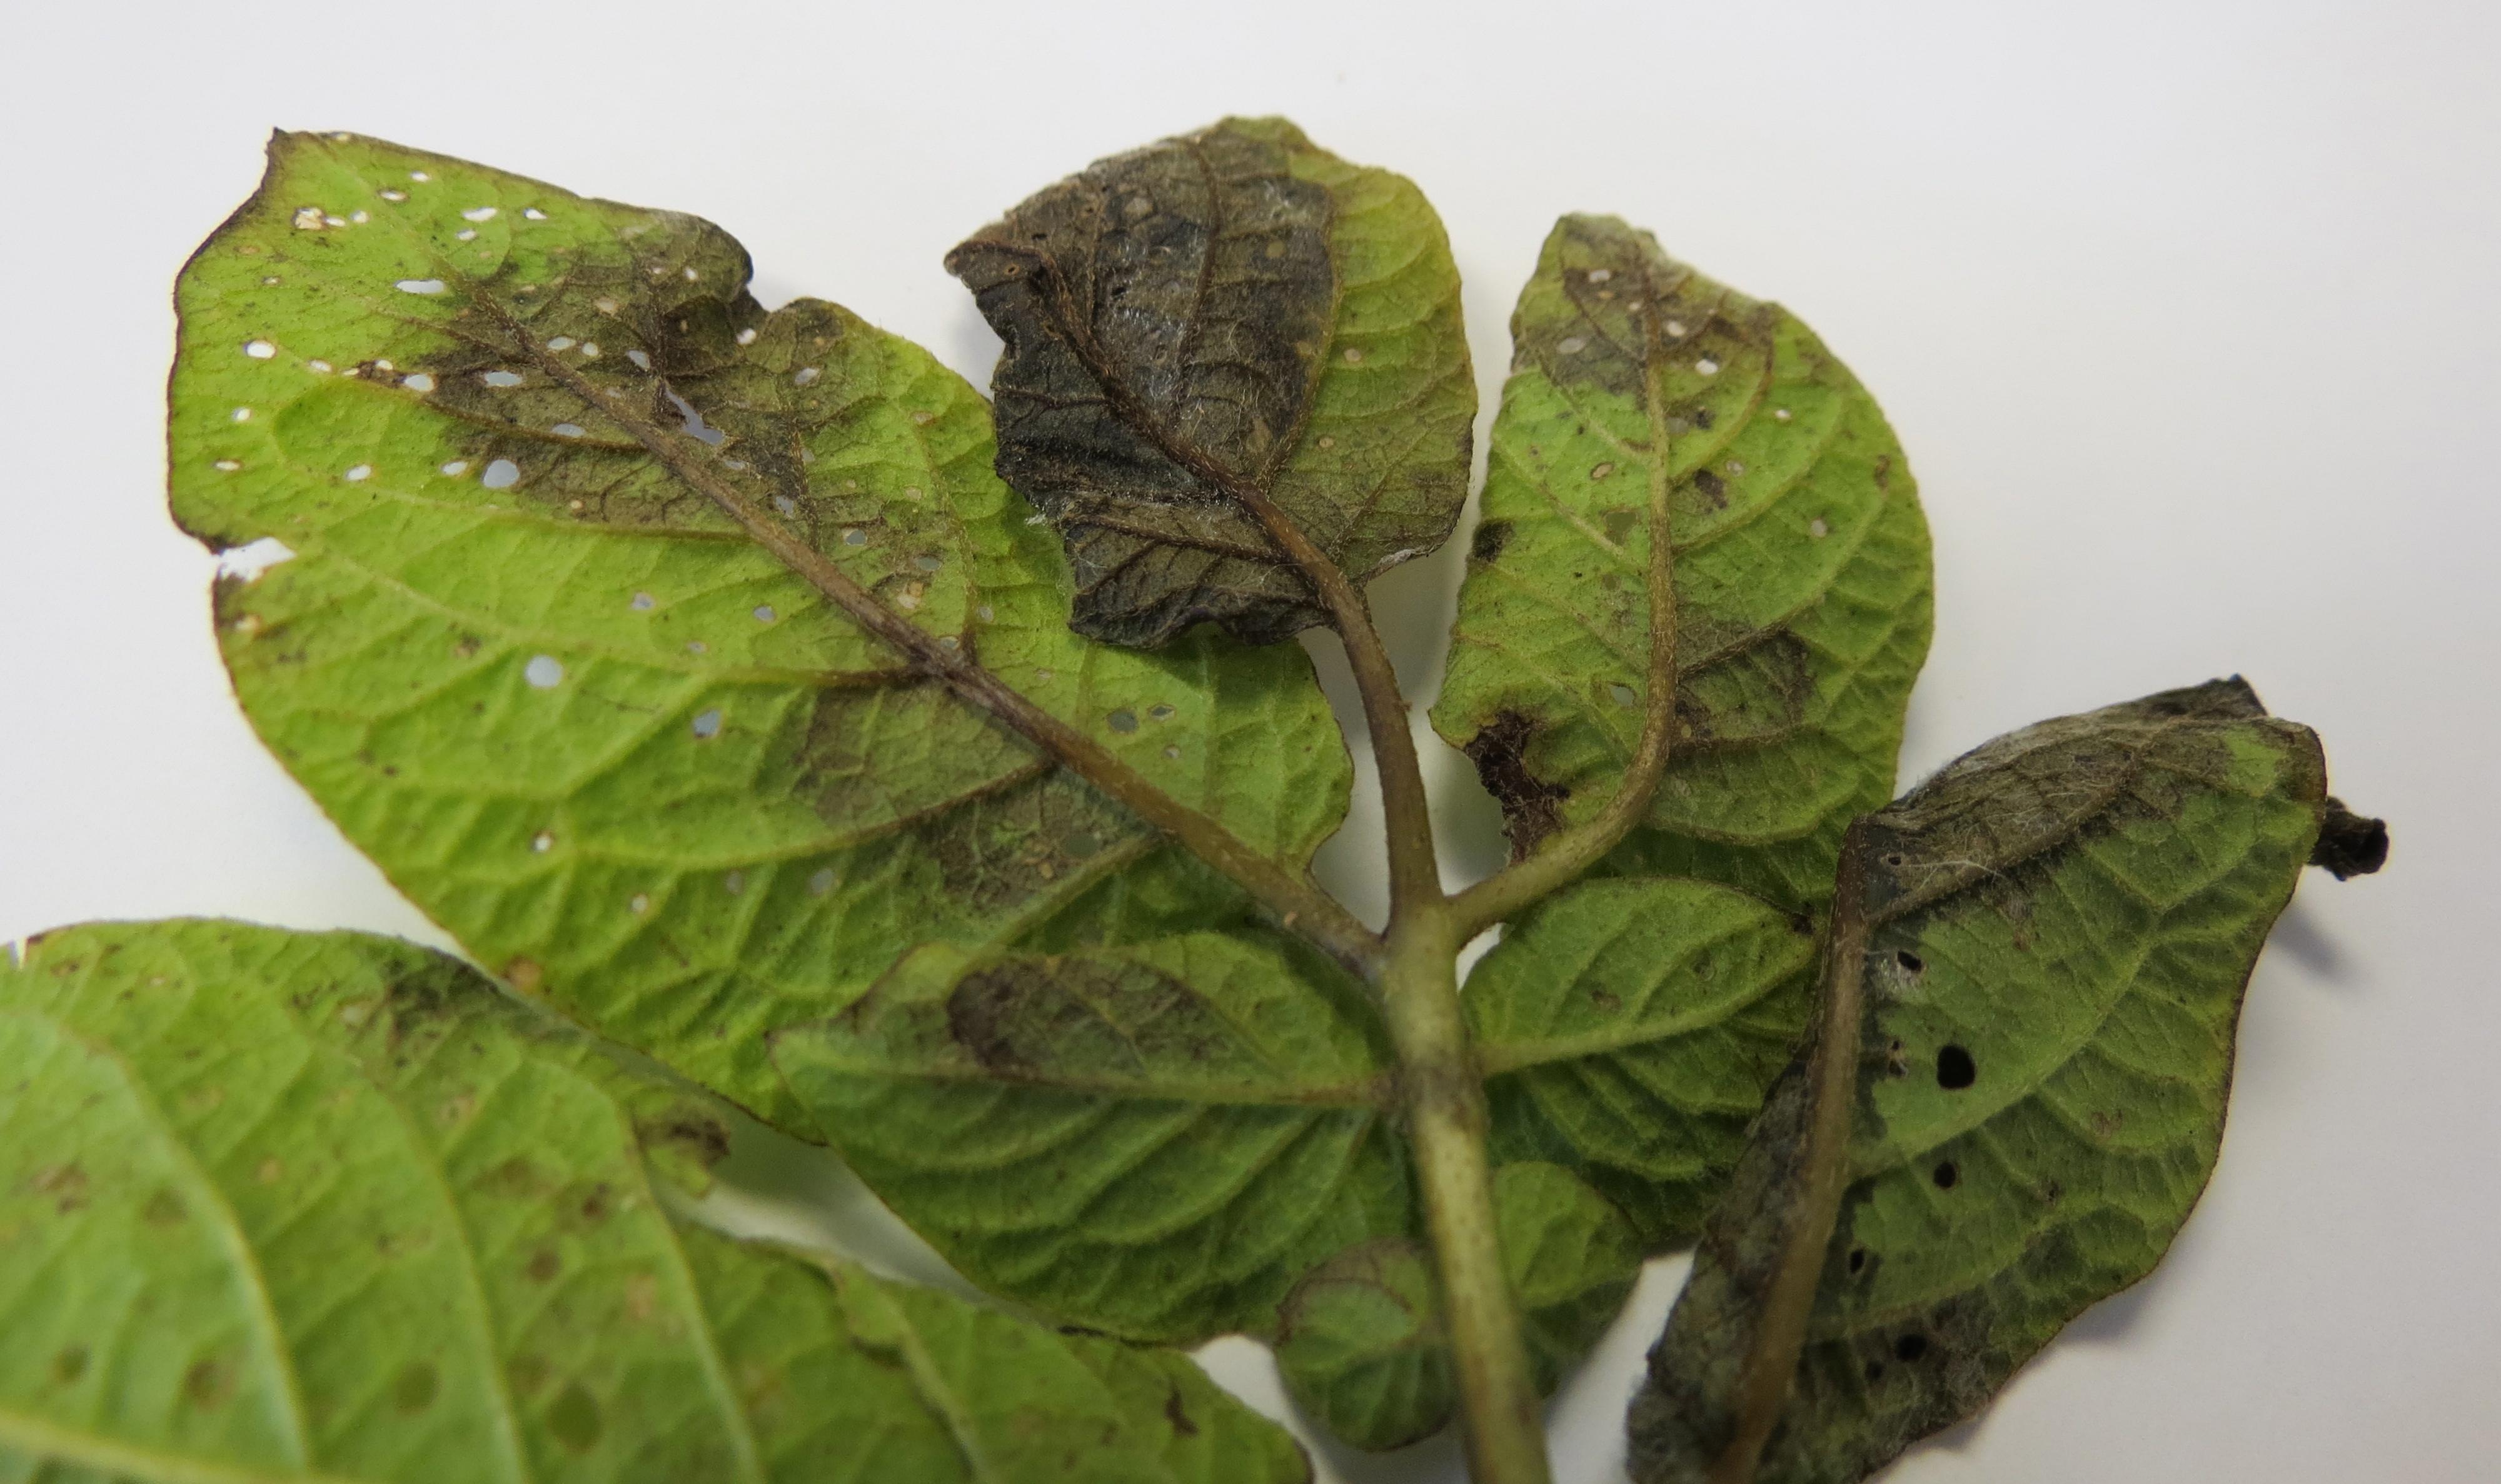Potato leaf late blight: (152, 106, 1475, 1385), (7, 892, 1399, 1484), (1655, 675, 2409, 1484), (1418, 193, 1936, 931), (956, 104, 1489, 673)
